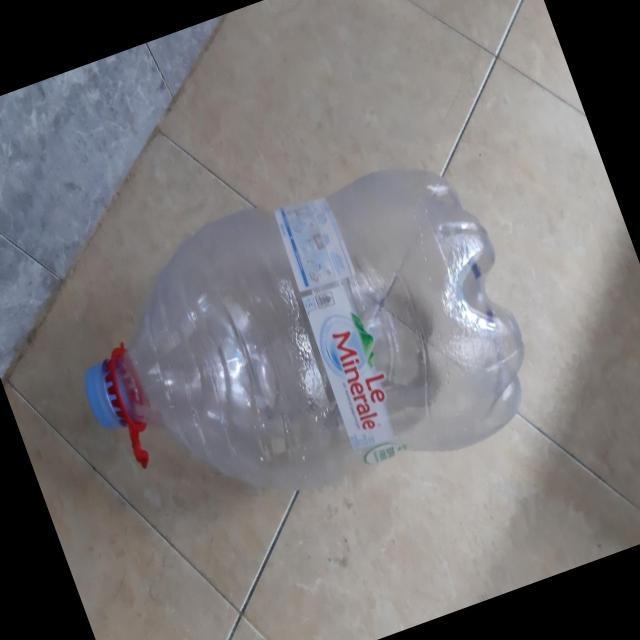Galon: (43, 130, 556, 564)
